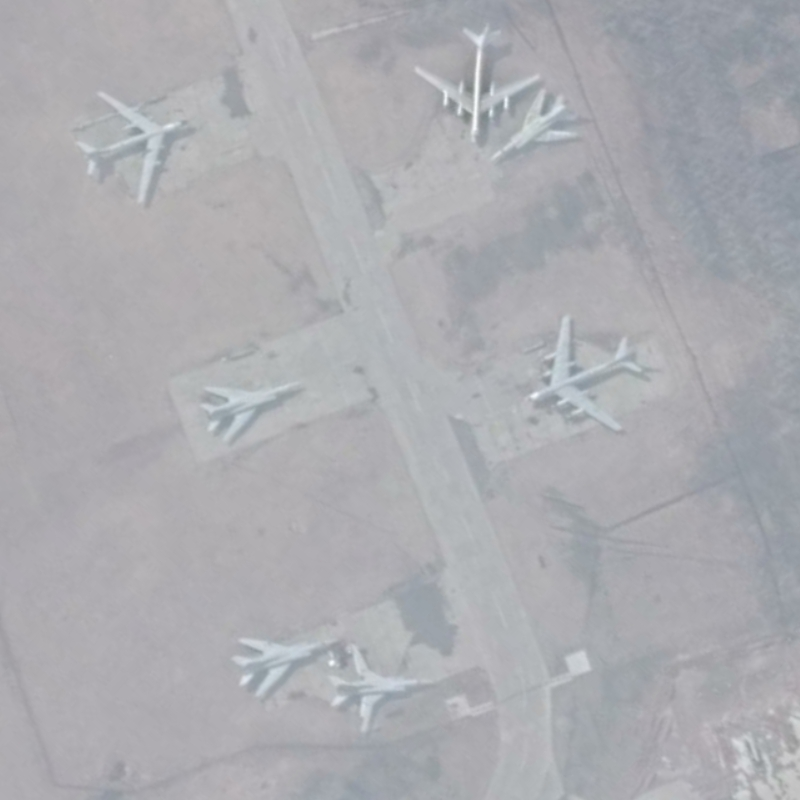A12: (328, 641, 436, 735), (230, 635, 341, 701), (489, 86, 581, 164), (198, 381, 304, 446)
A17: (413, 21, 544, 145), (523, 313, 644, 434), (75, 89, 191, 206)
